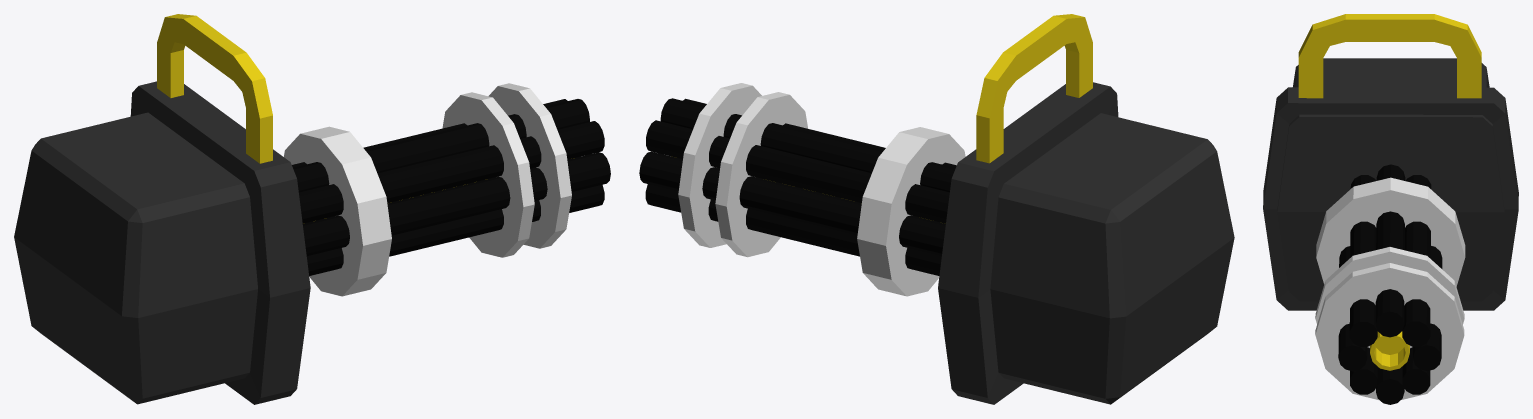
The model's file is MINIGUN V2 .fbx.
3 views of the same model, side by side, from view 1: azimuth 30°, elevation 25°; view 2: azimuth 150°, elevation 25°; view 3: azimuth 270°, elevation 25° (orthographic). The views are drawn at different scales.
Visible parts, largest first — view 1: Weapon_09; view 2: Weapon_09; view 3: Weapon_09.
Part boxes in pixels (x1,y1,x2,y2): Weapon_09: (14, 14, 610, 404); Weapon_09: (639, 14, 1234, 404); Weapon_09: (1263, 14, 1518, 404).
Size of the model in its own units: 120 by 71.74 by 58.15.
